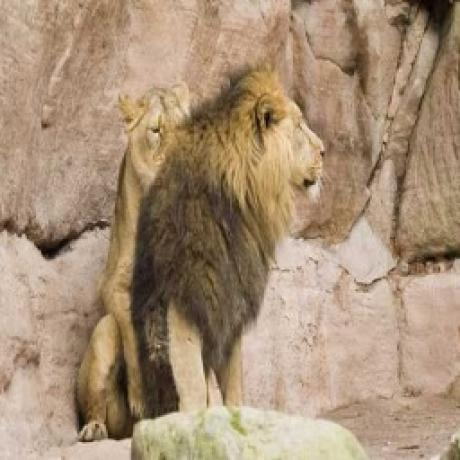Lion: (124, 62, 329, 412), (74, 78, 188, 441)
